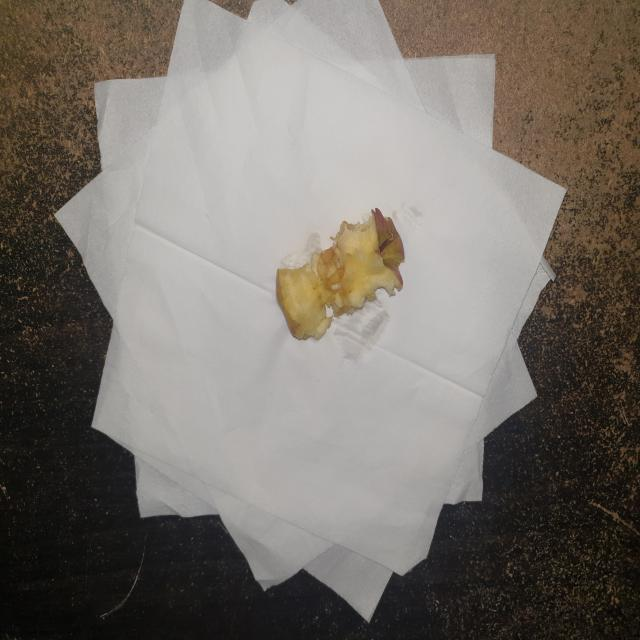apple: (273, 194, 413, 349)
